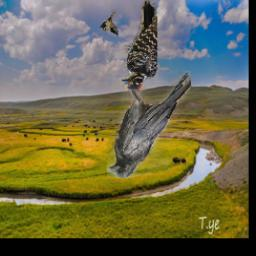Crow: (107, 70, 191, 178)
Sparrow: (98, 10, 119, 37)
Woodpecker: (122, 0, 157, 92)
